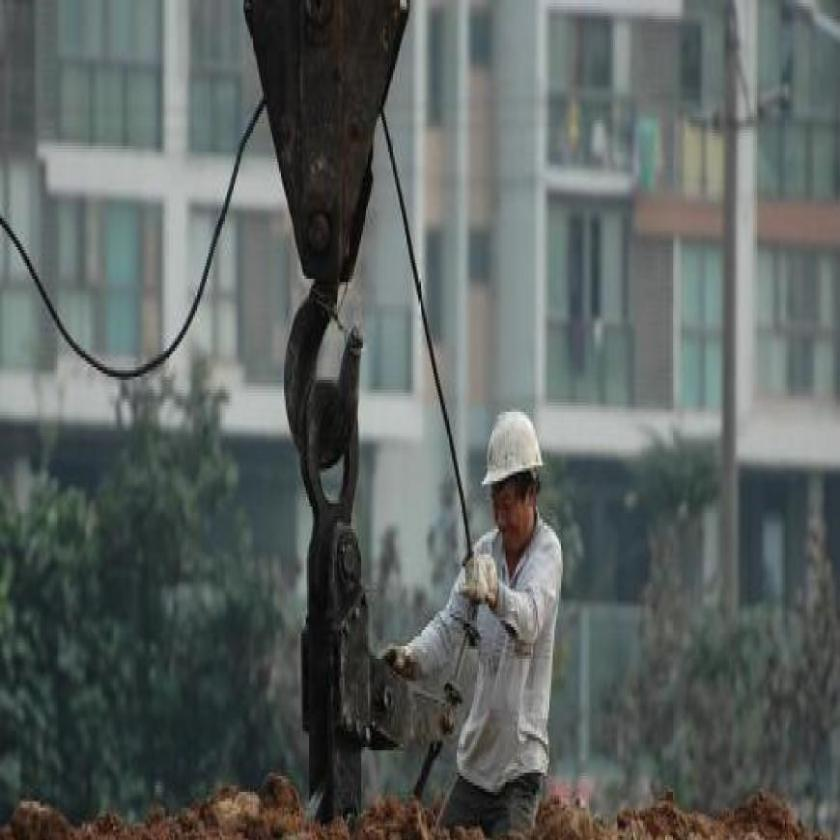Con_casco: (477, 397, 549, 562)
